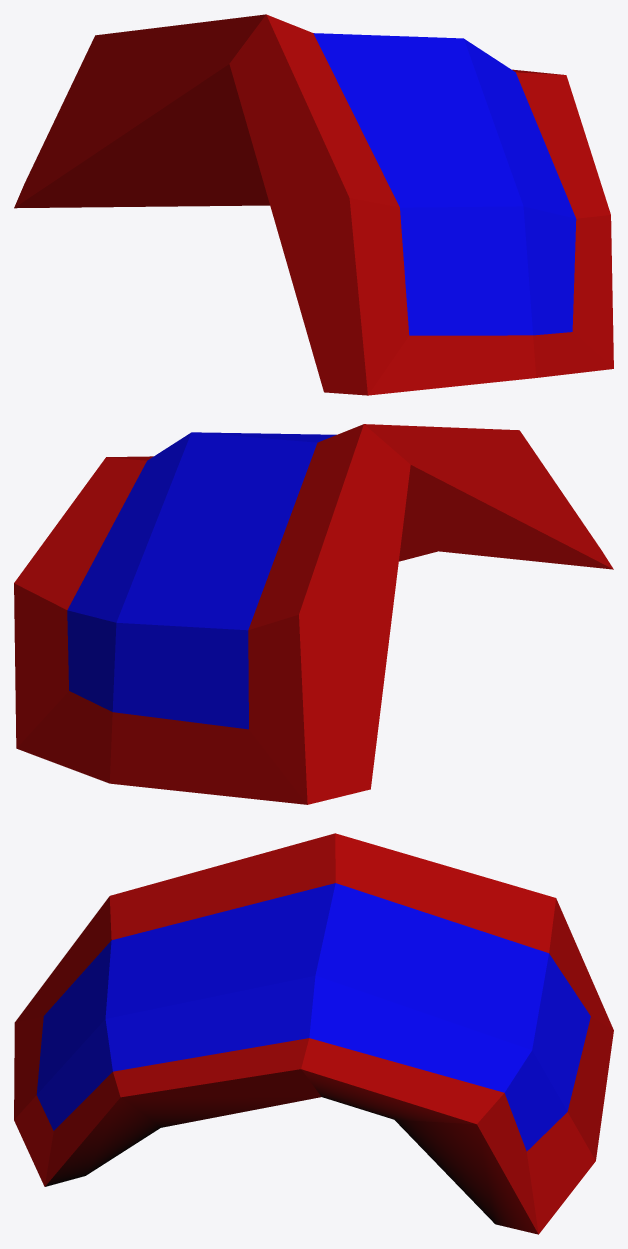
The model's file is Chr_ShoulderAttachLeft_Static_02.fbx.
3 renders of one model, top to bottom at view 1: azimuth 30°, elevation 25°; view 2: azimuth 150°, elevation 25°; view 3: azimuth 270°, elevation 25°, orthographic. The views are drawn at different scales.
Parts seen in each view (by area): view 1: Chr_ShoulderAttachLeft_02; view 2: Chr_ShoulderAttachLeft_02; view 3: Chr_ShoulderAttachLeft_02.
Part boxes in pixels (box(x1,y1,x2,y2)): Chr_ShoulderAttachLeft_02: box(14, 14, 613, 395); Chr_ShoulderAttachLeft_02: box(14, 424, 613, 804); Chr_ShoulderAttachLeft_02: box(14, 833, 613, 1234).
Size of the model in its own units: 24.59 by 17.8 by 33.38.
